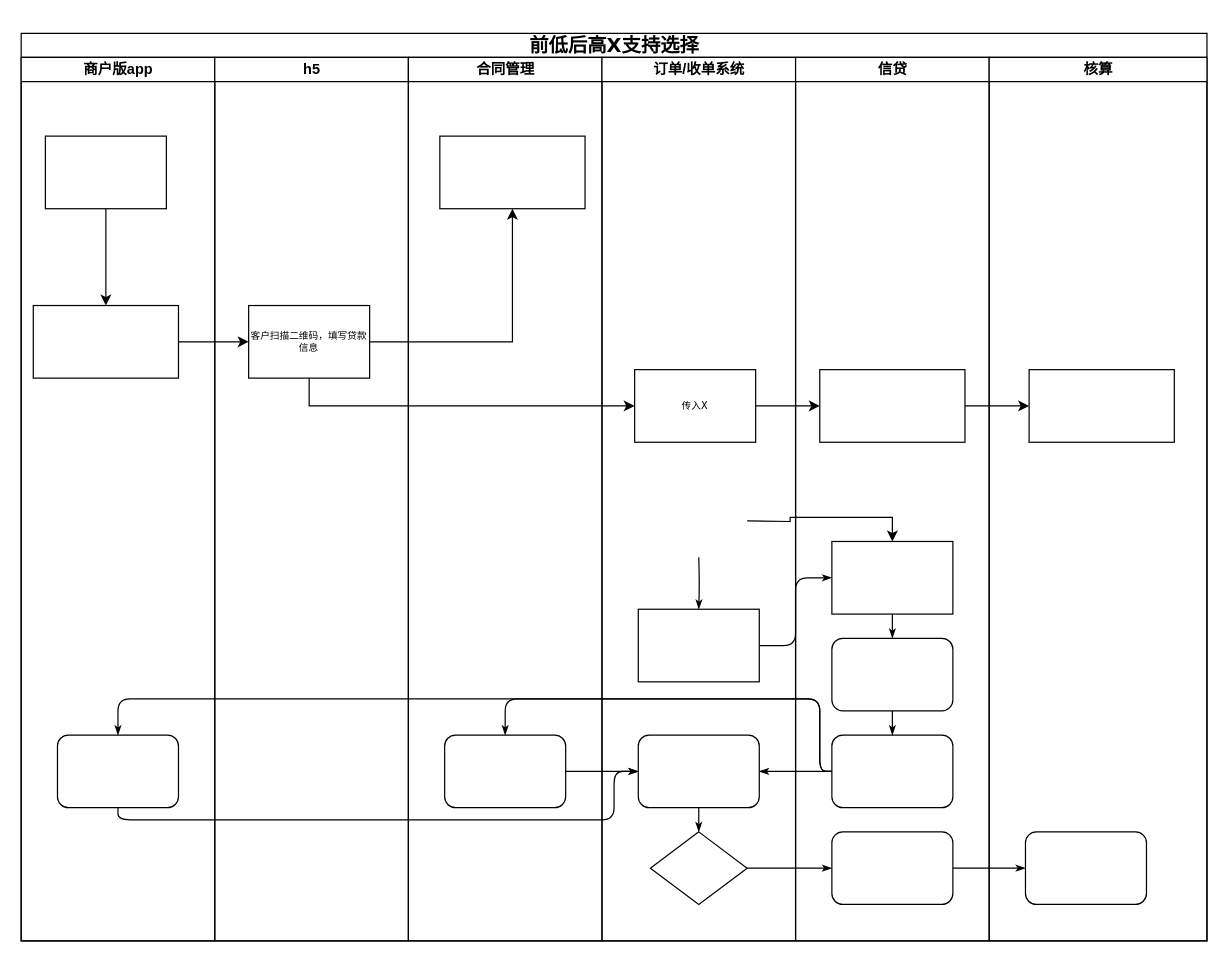
Image size: 1228x962. Some labels were removed from this diagram. The centre of each missing label's shape, as x and y in pixels:
"合同预览" belongs at pixel 512 172.
"根据灵活传入的X，组装出还款策略列表" belongs at pixel 892 405.
"根据还款策略生成出相应的还款计划" belongs at pixel 1101 405.
"生成二维码" belongs at pixel 105 341.
"选择门店、课程、贷款金额、贷款期限（前X期不还本金也在此处选择）" belongs at pixel 105 172.
